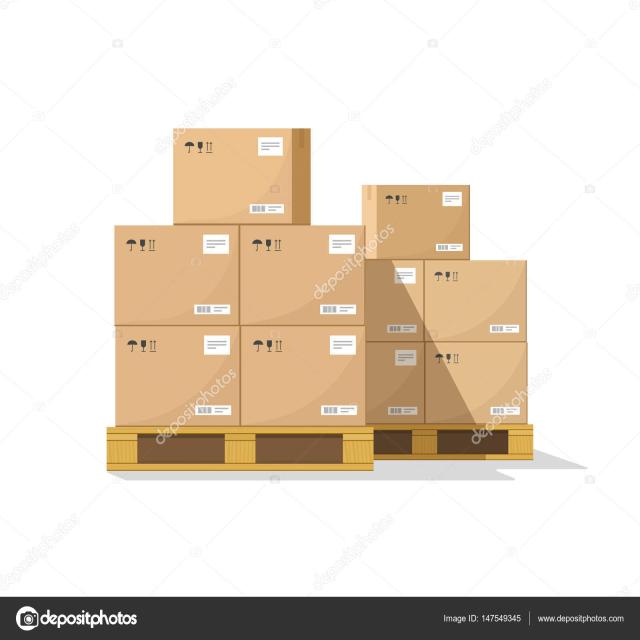box: (172, 126, 311, 225), (241, 326, 365, 430), (114, 325, 240, 427), (239, 224, 365, 325), (114, 224, 238, 325), (361, 184, 470, 260), (425, 343, 530, 418), (424, 264, 530, 338), (370, 341, 424, 424), (366, 264, 424, 338)
